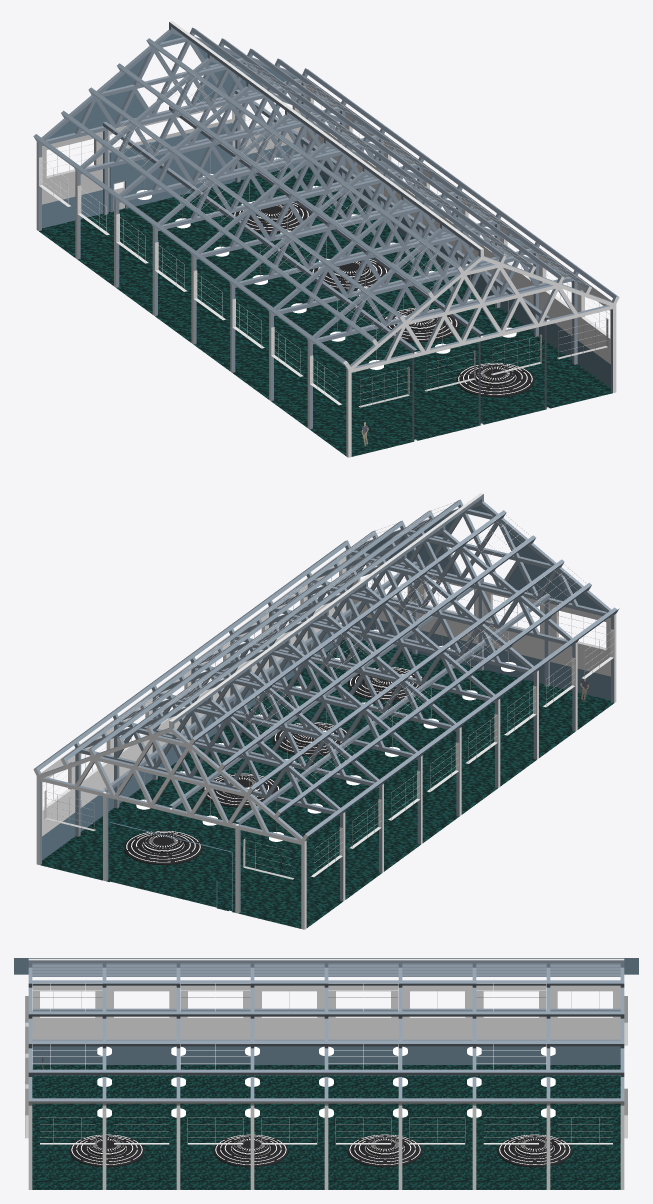
Rendered from Platform.glb.
The picture shows the model from 3 angles, top to bottom: view 1: azimuth 30°, elevation 25°; view 2: azimuth 150°, elevation 25°; view 3: azimuth 270°, elevation 25°; orthographic projection. The views are drawn at different scales.
Visible parts, largest first — view 1: Material2.001, Material2, Material2.005, Material2.003, Material2.004, Material2.002, Material2.006, Material3.001, MediumShowRoom_Foundation, Material2.007, MediumShowRoom_Foundation_Placeable_0.001, MediumShowRoom_Foundation_Placeable_0.003 (+2 smaller); view 2: Material2.001, Material2, Material2.003, Material2.005, Material2.004, Material2.002, Material2.006, MediumShowRoom_Foundation_Placeable_0.003, Material3.001, Material2.007, MediumShowRoom_Foundation_Placeable_0.002, MediumShowRoom_Foundation (+2 smaller); view 3: Material2, Material2.001, Material2.004, Material2.005, Material2.003, Material2.002, Material2.007, MediumShowRoom_Foundation_Placeable_0.001, MediumShowRoom_Foundation_Placeable_0.003, MediumShowRoom_Foundation, MediumShowRoom_Foundation_Placeable_0.002, Material2.006 (+4 smaller).
Part boxes in pixels (<box>): Material2.001: <box>33,22,618,441</box>; Material2: <box>39,167,612,456</box>; Material2.005: <box>42,33,610,388</box>; Material2.003: <box>36,21,619,457</box>; Material2.004: <box>39,78,611,405</box>; Material2.002: <box>56,58,586,407</box>; Material2.006: <box>42,83,607,407</box>; Material3.001: <box>39,96,609,407</box>; MediumShowRoom_Foundation: <box>456,363,534,397</box>; Material2.007: <box>136,157,516,369</box>; MediumShowRoom_Foundation_Placeable_0.001: <box>383,308,459,342</box>; MediumShowRoom_Foundation_Placeable_0.003: <box>233,201,310,233</box>; Material2.001: <box>34,494,619,913</box>; Material2: <box>40,639,613,928</box>; Material2.003: <box>33,493,619,929</box>; Material2.005: <box>42,505,610,911</box>; Material2.004: <box>41,550,613,877</box>; Material2.002: <box>44,502,605,901</box>; Material2.006: <box>45,555,610,879</box>; MediumShowRoom_Foundation_Placeable_0.003: <box>124,831,202,864</box>; Material3.001: <box>43,609,613,874</box>; Material2.007: <box>136,629,516,841</box>; MediumShowRoom_Foundation_Placeable_0.002: <box>202,773,280,807</box>; MediumShowRoom_Foundation: <box>348,667,423,701</box>; Material2: <box>32,1065,620,1189</box>; Material2.001: <box>28,960,624,1101</box>; Material2.004: <box>32,985,620,1144</box>; Material2.005: <box>14,958,638,1064</box>; Material2.003: <box>25,958,624,1189</box>; Material2.002: <box>25,983,612,1144</box>; Material2.007: <box>97,1046,555,1117</box>; MediumShowRoom_Foundation_Placeable_0.001: <box>213,1134,288,1167</box>; MediumShowRoom_Foundation_Placeable_0.003: <box>497,1134,572,1167</box>; MediumShowRoom_Foundation: <box>69,1134,144,1167</box>; MediumShowRoom_Foundation_Placeable_0.002: <box>347,1134,422,1167</box>; Material2.006: <box>25,996,627,1138</box>.
Size of the model in its own units: 875 by 498 by 1663.
Materials: 15 (2 with a texture image).
